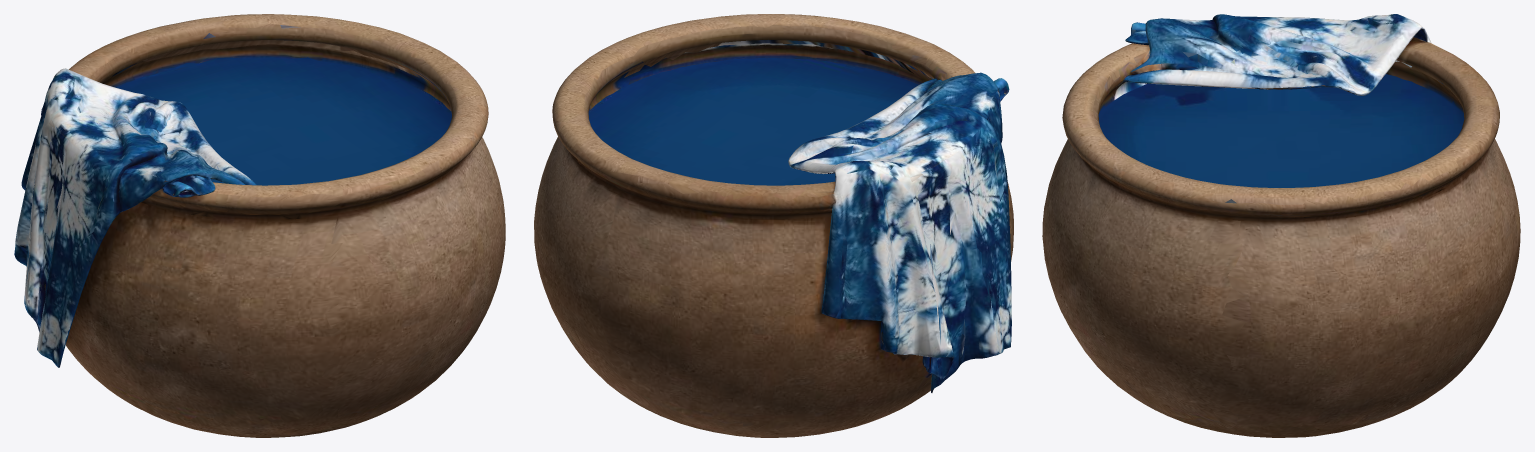
The model's file is dyevat.glb.
3 views of the same model, side by side, from view 1: azimuth 30°, elevation 25°; view 2: azimuth 150°, elevation 25°; view 3: azimuth 270°, elevation 25° (orthographic).
Parts seen in each view (by area): view 1: dyevat; view 2: dyevat; view 3: dyevat.
Part boxes in pixels (x1,y1,x2,y2): dyevat: (14, 14, 505, 437); dyevat: (534, 14, 1013, 437); dyevat: (1042, 14, 1520, 437).
Size of the model in its own units: 1.52 by 1 by 1.45.
1 material, 1 textured.
